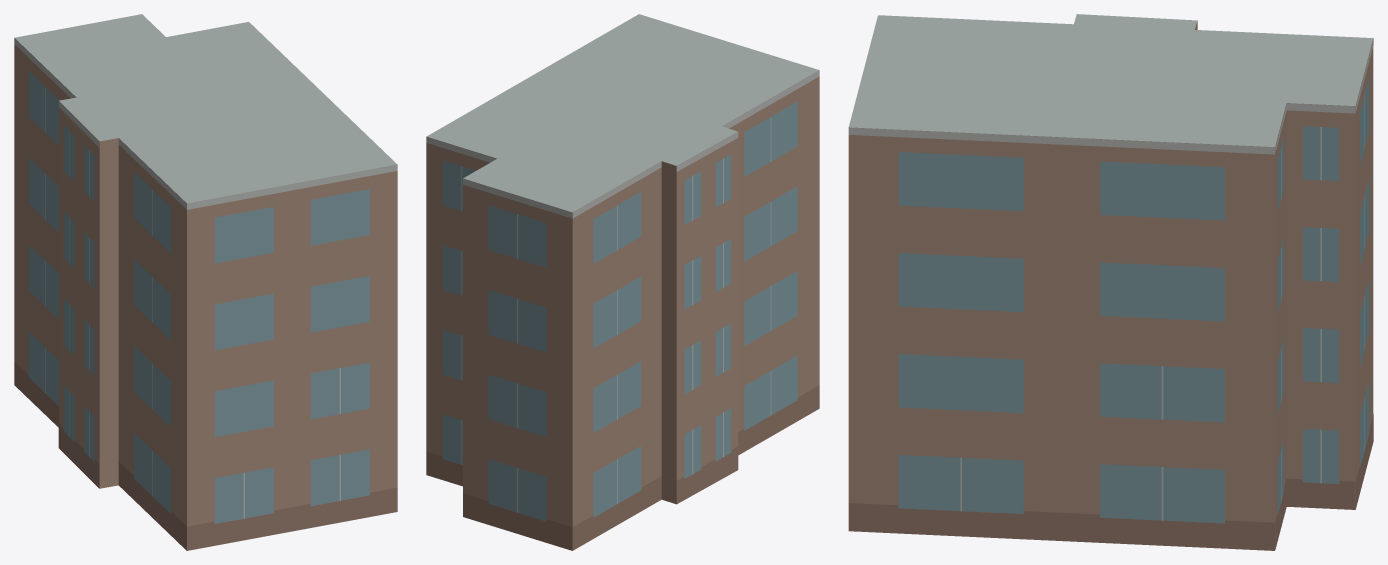
File: survey-upis-32988186.glb
3 renders of one model, left to right at view 1: azimuth 30°, elevation 25°; view 2: azimuth 150°, elevation 25°; view 3: azimuth 270°, elevation 25°, orthographic. The views are drawn at different scales.
Parts seen in each view (by area): view 1: survey-upis-32988186.tmp; view 2: survey-upis-32988186.tmp; view 3: survey-upis-32988186.tmp.
Boxes of the visible parts, left/top/right/bottom form: survey-upis-32988186.tmp: left=14, top=14, right=397, bottom=550; survey-upis-32988186.tmp: left=426, top=14, right=819, bottom=550; survey-upis-32988186.tmp: left=848, top=14, right=1373, bottom=550.
Bounding box in the file's own units: 9.38 × 13.25 × 15.62.
